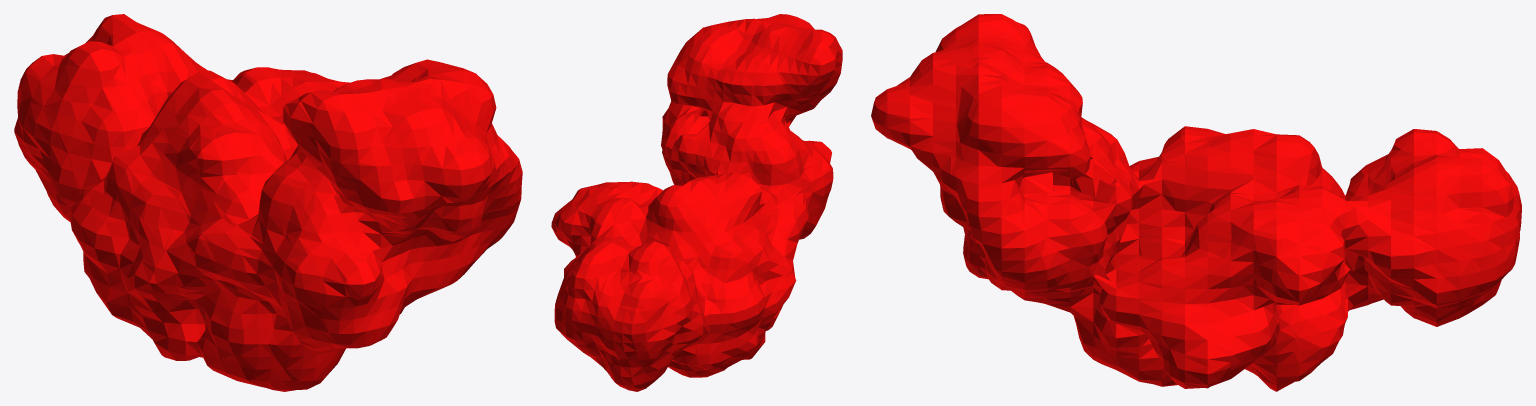
The model's file is entF_coarse.dae.
The picture shows the model from 3 angles, left to right: view 1: azimuth 30°, elevation 25°; view 2: azimuth 150°, elevation 25°; view 3: azimuth 270°, elevation 25°; orthographic projection. The views are drawn at different scales.
Visible parts, largest first — view 1: entF; view 2: entF; view 3: entF.
Boxes of the visible parts, x1,y1,x2,y2 form: entF: [14, 14, 522, 391]; entF: [551, 14, 842, 391]; entF: [871, 14, 1521, 391].
Bounding box in the file's own units: 74.43 × 88.91 × 151.
